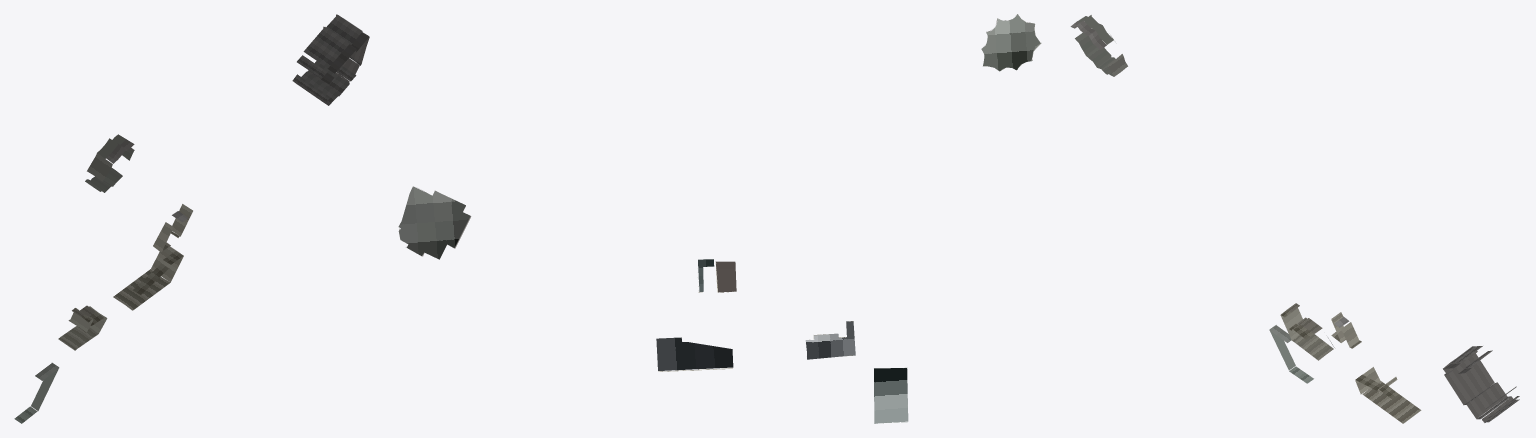
The model's file is tile_LOD3_r0_c0.glb.
The picture shows the model from 3 angles, left to right: view 1: azimuth 30°, elevation 25°; view 2: azimuth 150°, elevation 25°; view 3: azimuth 270°, elevation 25°; orthographic projection. The views are drawn at different scales.
Size of the model in its own units: 189 by 137 by 160.
Materials: 27 (25 with a texture image).
